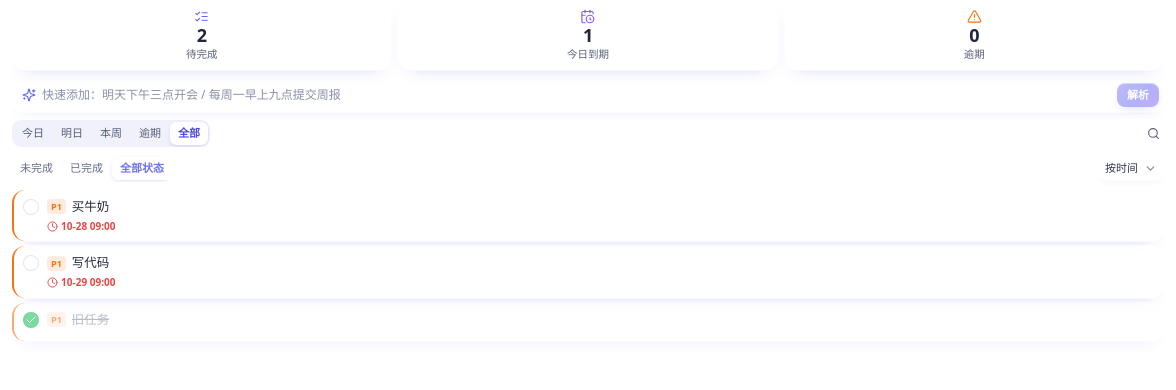
Test case: TasksPanel 筛选交互 › 点击搜索按钮展开输入框，输入关键词过滤任务列表
Expected: the text "买牛奶" is shown, [72,198,109,216]
Expected: the text "写代码" is shown, [72,254,109,272]
Click the button named "搜索任务": [1153, 133] box [1142,122,1164,144]
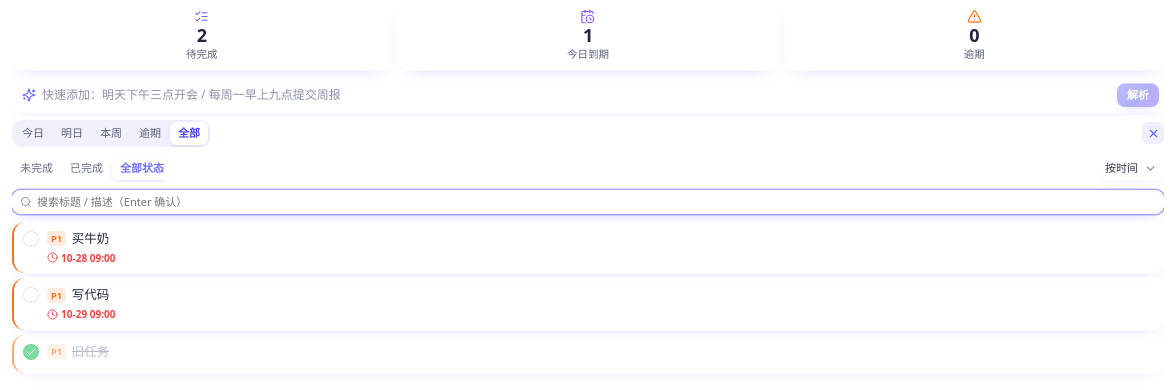
In the field with placeholder "搜索标题 / 描述（Enter 确认）": [596, 202] box [37,194,1156,210], type "牛奶"
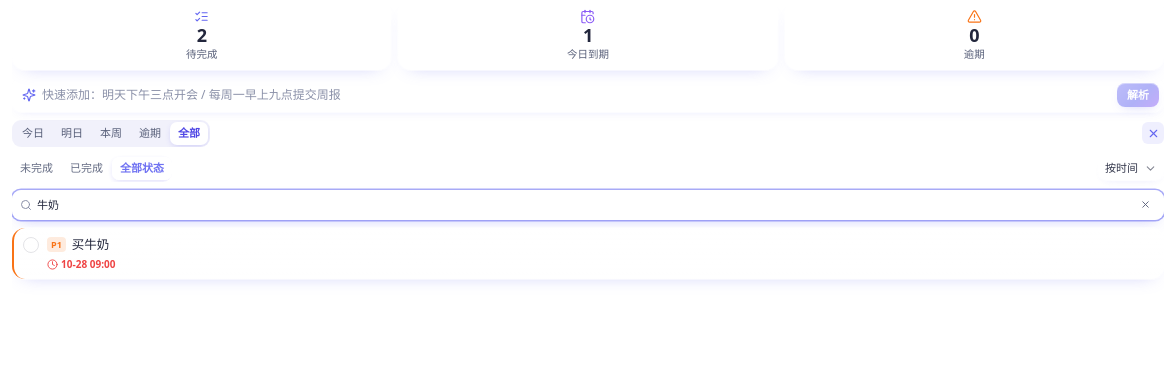
Expected: the text "买牛奶" is shown, [72,236,109,254]
Expected: the text "写代码" is gone
Expected: the text "旧任务" is gone
